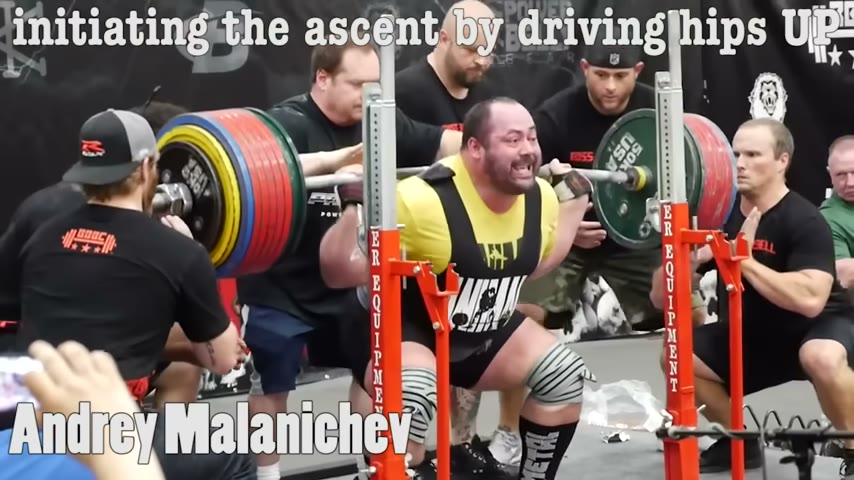barbell_plate_side: (327, 103, 436, 302)
